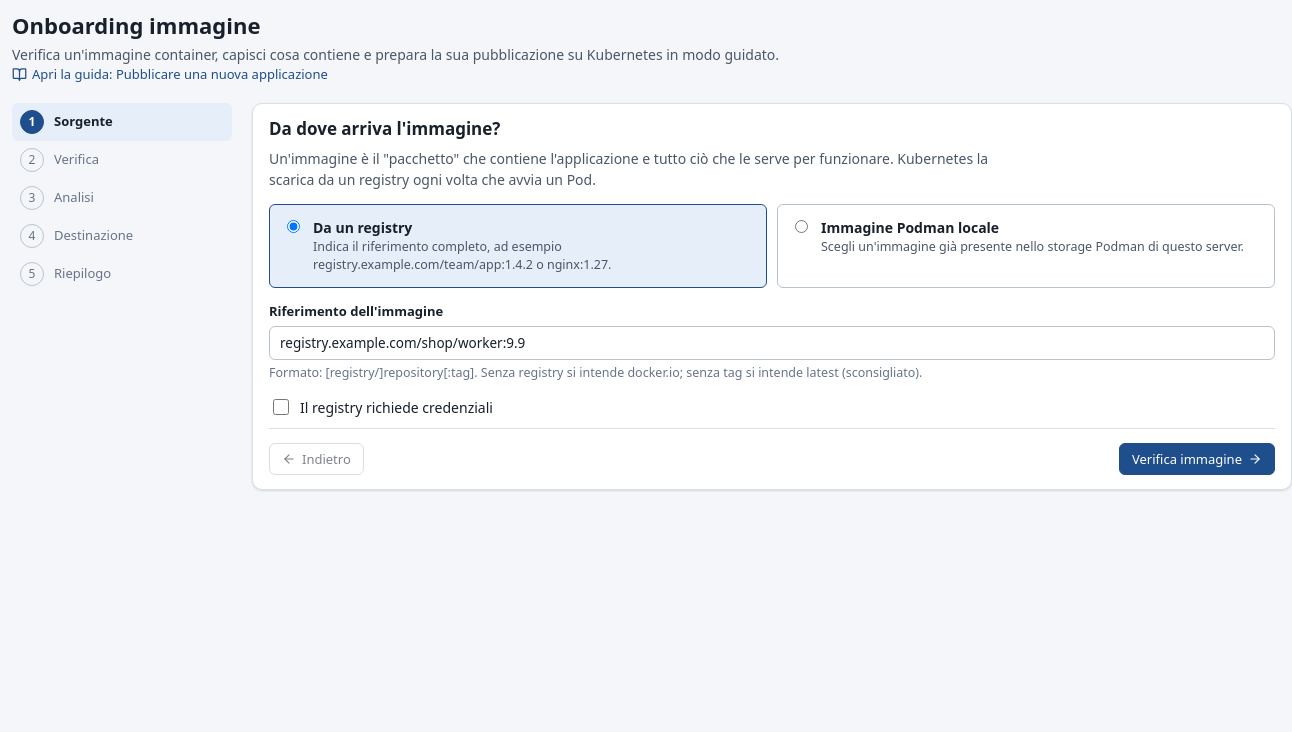
Test: ImageOnboarding › shows a failed tag check with the fix and blocks the wizard
The image size is (1292, 732).
Check: the field labelled "Riferimento dell'immagine" holds "registry.example.com/shop/worker:9.9", box top-left (269, 326), bottom-right (1275, 360)
Click the button "Verifica immagine" at (1197, 459), box top-left (1119, 443), bottom-right (1275, 475)
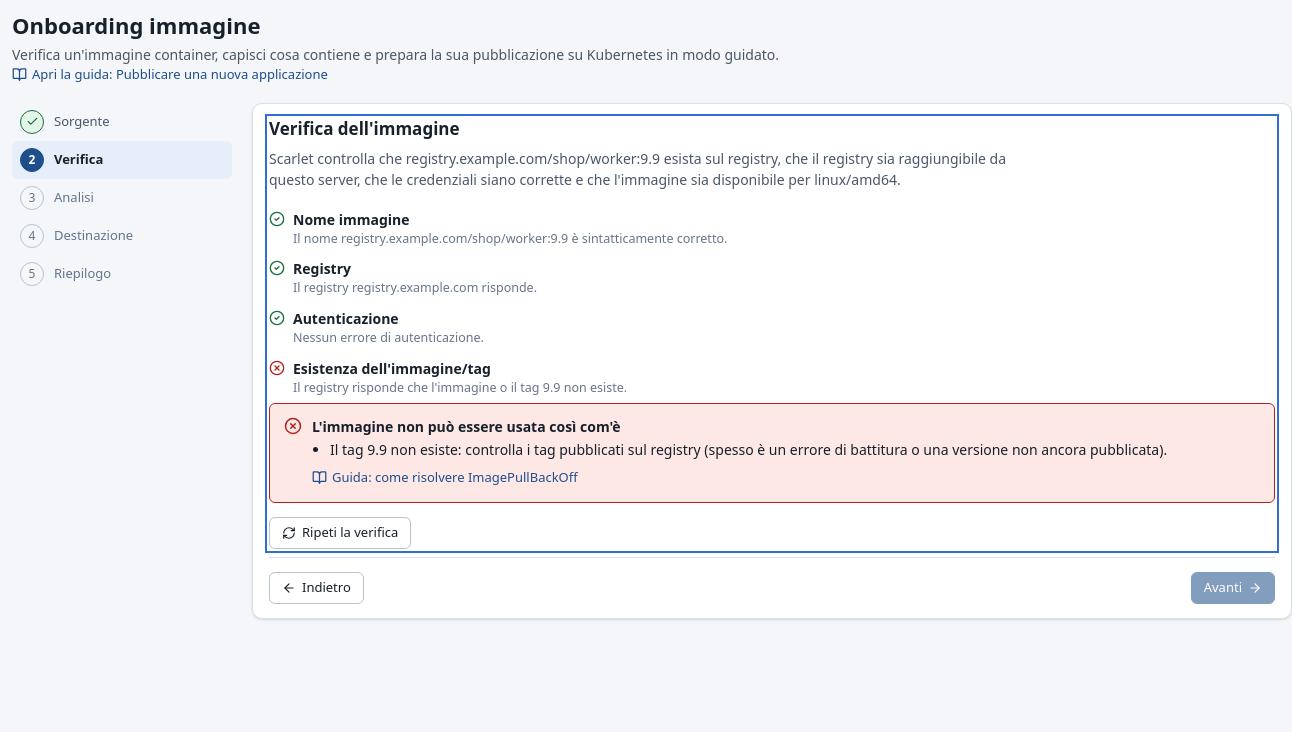
Check: the text "L'immagine non può essere usata così com'è" is shown, box top-left (312, 416), bottom-right (621, 436)
Check: the list item "Il tag 9.9 non esiste" is shown, box top-left (330, 440), bottom-right (1167, 458)
Check: the button "Avanti" is disabled, box top-left (1191, 572), bottom-right (1275, 604)
